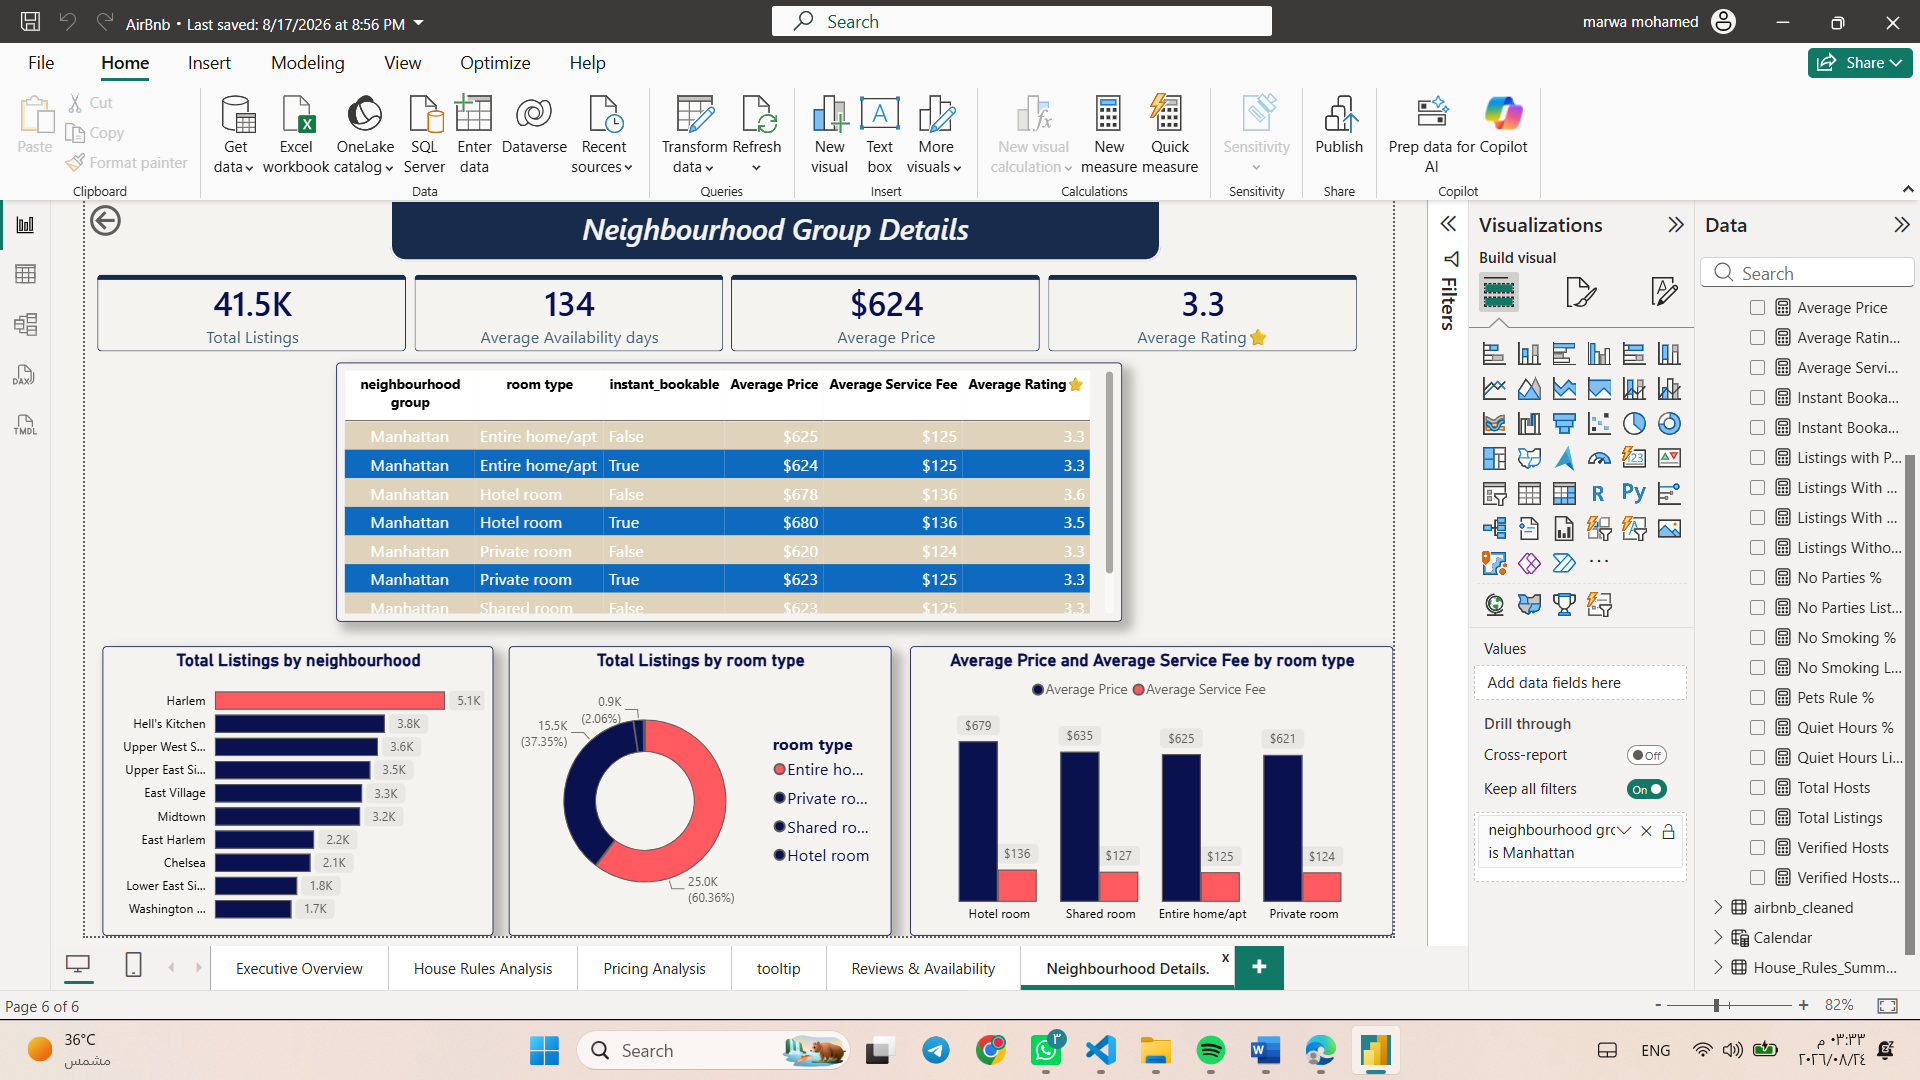

The dashboard page shown, as its layout file describes it:
{"tool":"powerbi","page":{"name":"Neighbourhood Details.","canvas":[1280,720],"ordinal":5},"visuals":[{"type":"actionButton","box":[17.5,548.8,143.3,82.2],"z":0},{"type":"actionButton","box":[17.5,436.2,142.5,81.2],"z":1000},{"type":"actionButton","box":[298.6,0,754.3,60],"z":2000},{"type":"cardVisual","fields":{"Data":["Measures_table.Total Listings","Measures_table.Average Availability","Measures_table.Average listing Price","Measures_table.Average Rating⭐"]},"box":[0,60.6,1258.3,99],"z":3000},{"type":"actionButton","box":[0,0,100,40],"z":4000},{"type":"clusteredBarChart","fields":{"Category":["airbnb_cleaned.neighbourhood"],"Y":["Measures_table.Total Listings"]},"box":[16.9,436,382.1,283.5],"z":5000},{"type":"donutChart","fields":{"Category":["airbnb_cleaned.room type"],"Y":["Measures_table.Total Listings"]},"box":[414.4,436,374.4,283.5],"z":6000},{"type":"clusteredColumnChart","fields":{"Category":["airbnb_cleaned.room type"],"Y":["Measures_table.Average listing Price","Measures_table.Average Service Fee"]},"box":[807.3,436,473,283.5],"z":7000},{"type":"tableEx","fields":{"Values":["airbnb_cleaned.neighbourhood group","airbnb_cleaned.room type","airbnb_cleaned.instant_bookable","Measures_table.Average listing Price","Measures_table.Average Service Fee","Measures_table.Average Rating⭐"]},"box":[246.1,158.9,768.9,253.7],"z":8000}]}

Visuals, with their boxes on the page's 1280x720 design canvas (x1, y1, x2, y2). These are canvas units, not pixel positions in the 1920x1080 screenshot, which may show the page scaled, cropped or inside an application window:
actionButton: {"x1": 18, "y1": 549, "x2": 161, "y2": 631}
actionButton: {"x1": 18, "y1": 436, "x2": 160, "y2": 517}
actionButton: {"x1": 299, "y1": 0, "x2": 1053, "y2": 60}
cardVisual - Measures_table.Total Listings x Measures_table.Average Availability: {"x1": 0, "y1": 61, "x2": 1258, "y2": 160}
actionButton: {"x1": 0, "y1": 0, "x2": 100, "y2": 40}
clusteredBarChart - airbnb_cleaned.neighbourhood x Measures_table.Total Listings: {"x1": 17, "y1": 436, "x2": 399, "y2": 720}
donutChart - airbnb_cleaned.room type x Measures_table.Total Listings: {"x1": 414, "y1": 436, "x2": 789, "y2": 720}
clusteredColumnChart - airbnb_cleaned.room type x Measures_table.Average listing Price: {"x1": 807, "y1": 436, "x2": 1280, "y2": 720}
tableEx - airbnb_cleaned.neighbourhood group x airbnb_cleaned.room type: {"x1": 246, "y1": 159, "x2": 1015, "y2": 413}
